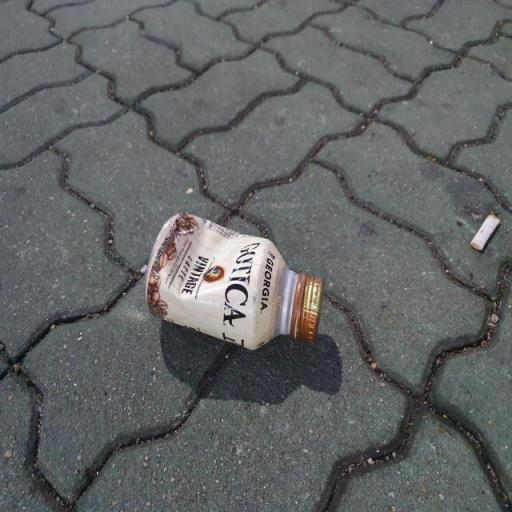metal: (120, 177, 345, 396)
